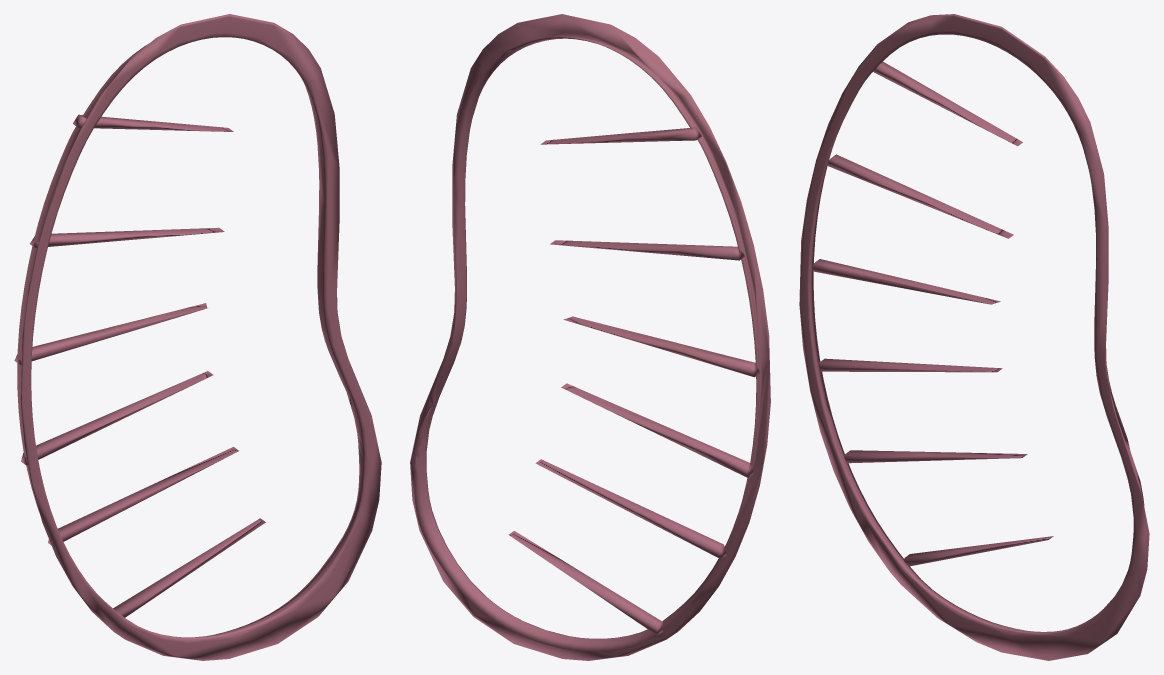
3 views of the same model, side by side, from view 1: azimuth 30°, elevation 25°; view 2: azimuth 150°, elevation 25°; view 3: azimuth 330°, elevation 25° (orthographic). The views are drawn at different scales.
Parts seen in each view (by area): view 1: LOD 2_16192670299155889494_a1e5460f9667e624384844bb77a670e0; view 2: LOD 2_16192670299155889494_a1e5460f9667e624384844bb77a670e0; view 3: LOD 2_16192670299155889494_a1e5460f9667e624384844bb77a670e0.
Part boxes in pixels (<box>): LOD 2_16192670299155889494_a1e5460f9667e624384844bb77a670e0: <box>14,14,381,660</box>; LOD 2_16192670299155889494_a1e5460f9667e624384844bb77a670e0: <box>410,14,770,660</box>; LOD 2_16192670299155889494_a1e5460f9667e624384844bb77a670e0: <box>799,14,1149,660</box>.
Bounding box in the file's own units: 4.09 × 7 × 0.234.
